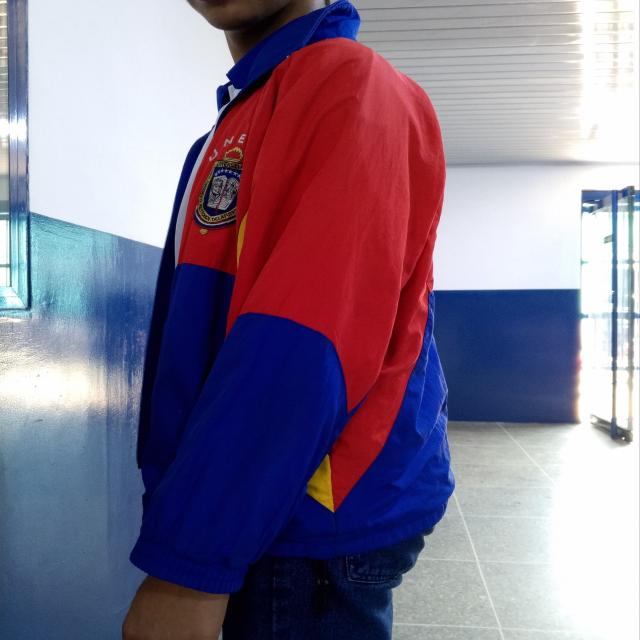chaqueta_unefa: (127, 0, 456, 596)
